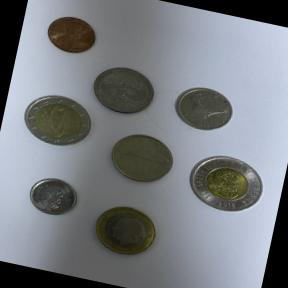coin: (178, 141, 278, 226), (80, 191, 170, 265), (97, 119, 186, 193), (13, 86, 98, 156), (82, 58, 162, 123), (37, 5, 111, 66), (22, 168, 88, 226)
